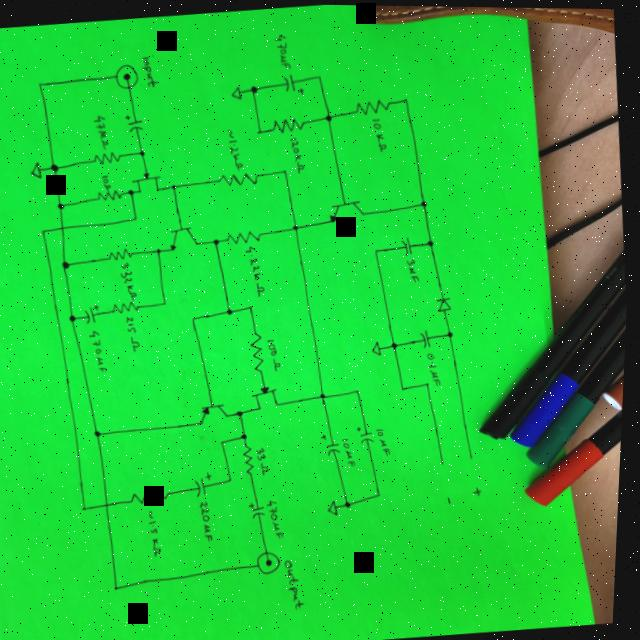capacitor: (281, 68, 307, 95), (323, 427, 346, 457), (249, 496, 274, 522), (197, 468, 219, 496), (356, 421, 380, 444), (125, 110, 148, 132), (85, 300, 105, 323), (402, 233, 417, 254), (422, 326, 435, 347)
crossover: (106, 498, 117, 508), (61, 222, 69, 230)
diode: (437, 293, 456, 311)
ground: (29, 155, 46, 182), (372, 337, 386, 355), (331, 497, 344, 514), (231, 83, 244, 98)
junction: (249, 82, 261, 93), (70, 311, 81, 322), (51, 161, 62, 172), (324, 110, 335, 121), (96, 427, 107, 437), (63, 258, 73, 268), (420, 196, 430, 206), (36, 78, 46, 88), (127, 186, 138, 195), (228, 304, 237, 314), (293, 220, 302, 230), (315, 71, 325, 80), (85, 501, 95, 510), (59, 200, 68, 209), (139, 146, 148, 155), (214, 235, 223, 244), (448, 327, 457, 336), (428, 236, 437, 245), (192, 312, 201, 321), (117, 582, 126, 591), (402, 93, 411, 102), (348, 497, 357, 506), (256, 126, 265, 134), (394, 338, 402, 347), (283, 165, 291, 173), (375, 244, 383, 252), (249, 301, 257, 309), (240, 407, 247, 415), (244, 431, 252, 438), (379, 489, 387, 496), (42, 226, 50, 233), (157, 245, 164, 253), (133, 213, 141, 220), (172, 181, 179, 188), (223, 437, 230, 444), (427, 378, 434, 385), (164, 298, 171, 305), (403, 382, 410, 389), (358, 385, 365, 392), (323, 389, 330, 396), (232, 474, 237, 480)
resistor: (250, 328, 272, 371), (131, 484, 175, 505), (218, 167, 263, 187), (354, 94, 393, 114), (271, 113, 309, 133), (229, 226, 266, 245), (97, 184, 128, 201), (245, 443, 260, 473), (114, 297, 142, 313), (94, 149, 123, 164), (109, 245, 137, 260)
terminal: (114, 60, 141, 88), (260, 548, 288, 572), (440, 454, 450, 464), (472, 452, 479, 459)
text: (287, 557, 311, 608), (245, 245, 269, 296), (149, 506, 169, 556), (226, 125, 248, 168), (91, 326, 112, 371), (271, 495, 290, 537), (273, 31, 293, 68), (203, 498, 220, 540), (127, 314, 146, 351), (121, 260, 140, 297), (140, 52, 160, 87), (289, 134, 307, 171), (371, 115, 390, 150), (94, 114, 112, 149), (429, 349, 446, 384), (270, 334, 286, 369), (379, 423, 396, 454), (344, 434, 361, 465), (259, 443, 275, 474), (408, 253, 424, 281), (101, 170, 115, 190), (446, 493, 460, 505), (475, 483, 488, 494)
transistor: (327, 194, 368, 223), (167, 219, 201, 252), (253, 379, 287, 412), (197, 397, 234, 424), (132, 168, 165, 194)
